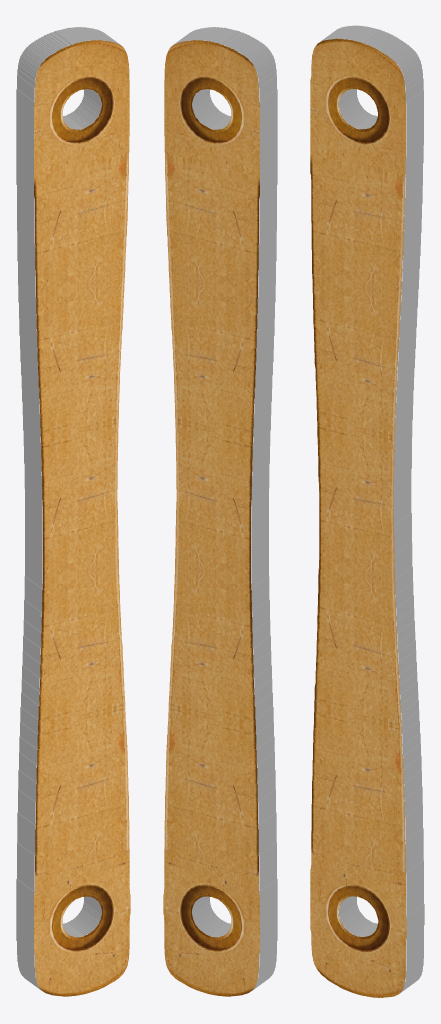
File: UpperLeg.glb
3 renders of one model, left to right at view 1: azimuth 30°, elevation 25°; view 2: azimuth 150°, elevation 25°; view 3: azimuth 330°, elevation 25°, orthographic.
Visible parts, largest first — view 1: PaperVolume; view 2: PaperVolume; view 3: PaperVolume.
Part boxes in pixels (x1,y1,x2,y2): PaperVolume: (16, 27, 130, 996); PaperVolume: (163, 27, 277, 996); PaperVolume: (310, 25, 424, 997).
Bounding box in the file's own units: 0.2597 × 2.37 × 0.08.
3 materials, 2 textured.
